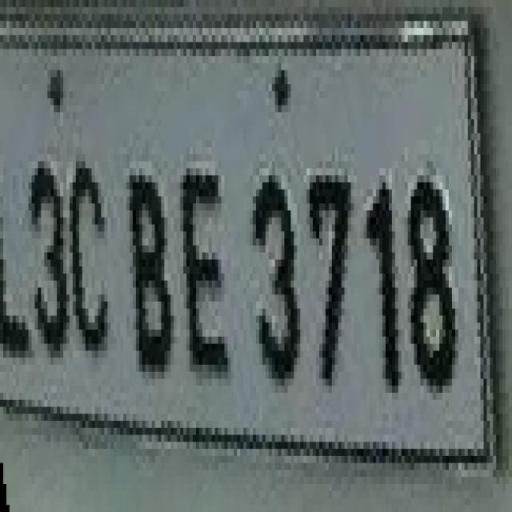number plate: (0, 35, 490, 484)
